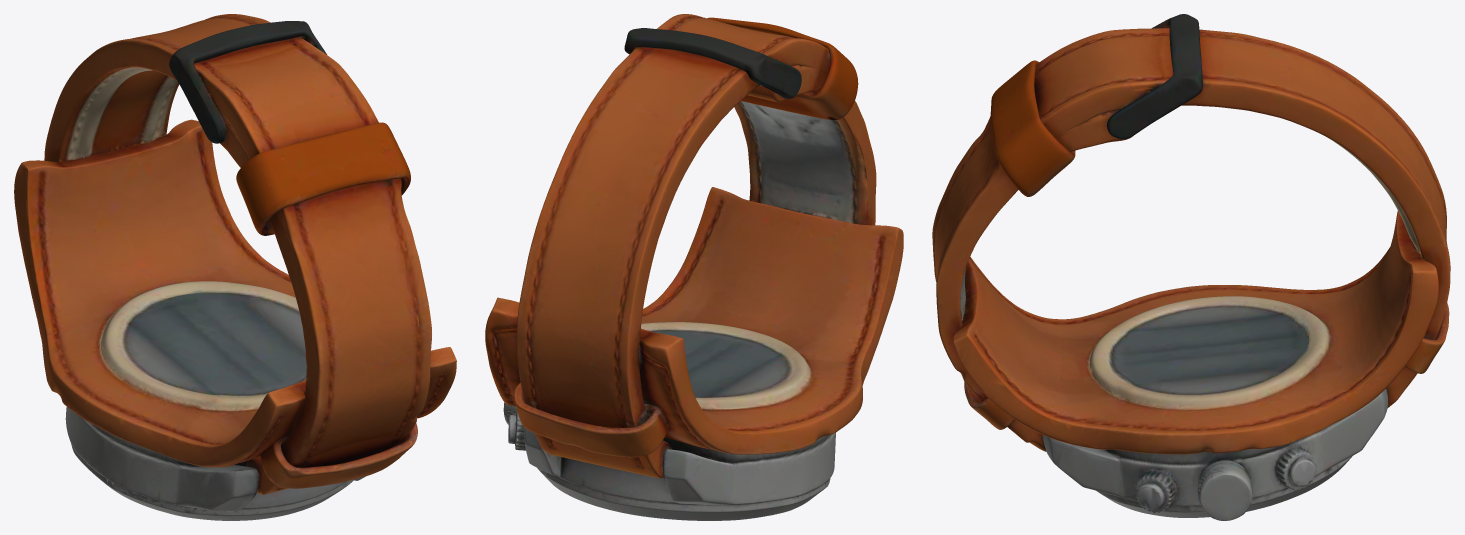
3 views of the same model, side by side, from view 1: azimuth 30°, elevation 25°; view 2: azimuth 150°, elevation 25°; view 3: azimuth 270°, elevation 25° (orthographic). The views are drawn at different scales.
Visible parts, largest first — view 1: tripo_node_3b8ec57c-7689-4936-b48f-3f2da7515c6c; view 2: tripo_node_3b8ec57c-7689-4936-b48f-3f2da7515c6c; view 3: tripo_node_3b8ec57c-7689-4936-b48f-3f2da7515c6c.
Boxes of the visible parts, <box> form: tripo_node_3b8ec57c-7689-4936-b48f-3f2da7515c6c: <box>14,14,456,520</box>; tripo_node_3b8ec57c-7689-4936-b48f-3f2da7515c6c: <box>485,14,903,520</box>; tripo_node_3b8ec57c-7689-4936-b48f-3f2da7515c6c: <box>932,14,1450,520</box>.
Size of the model in its own units: 0.0559 by 0.0741 by 0.08.
Materials: 1 (1 with a texture image).
